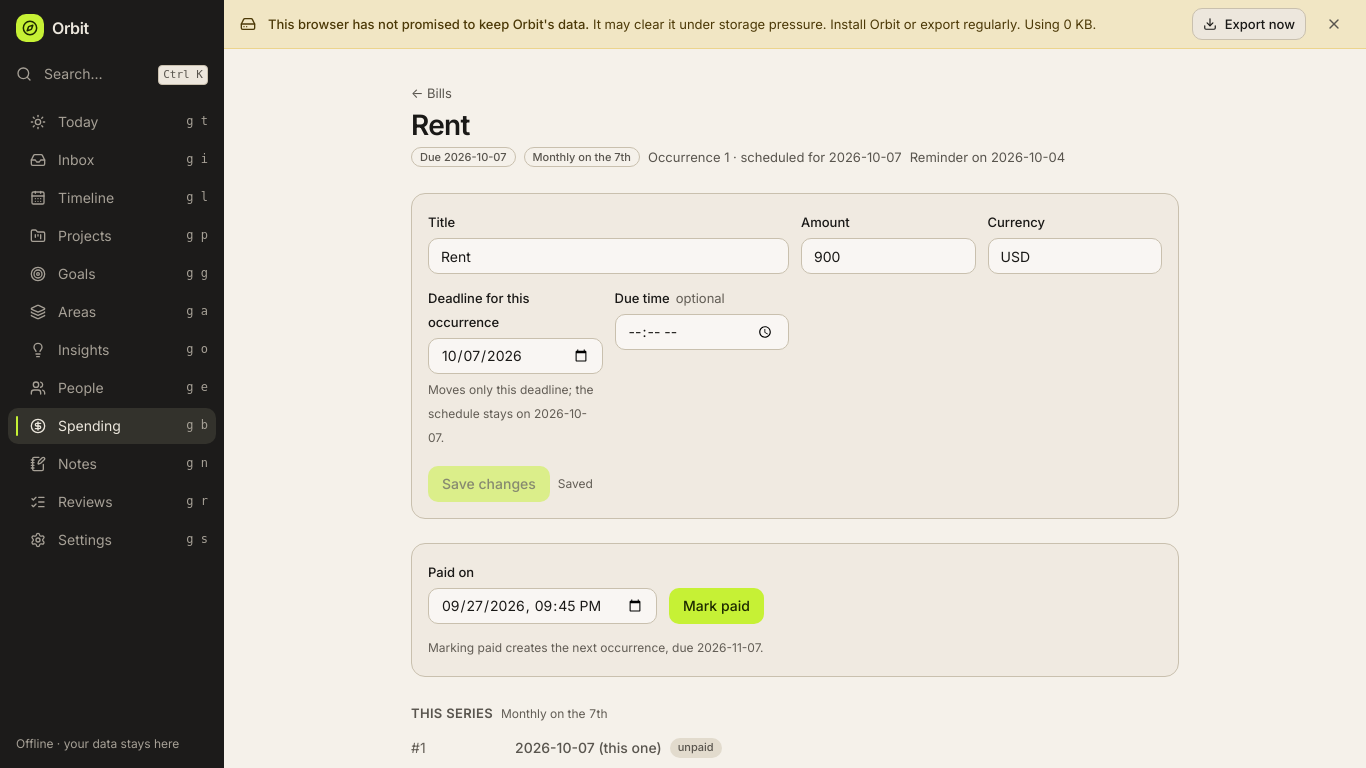
Bills pages › edits only this deadline with a visible save state, and a one-off payment can be corrected
Expected: the text with test id "bill-schedule" is shown, [524,147,640,167]
Step 1. Type "2026-10-09" into the date field labelled "Deadline for this occurrence" → {"x": 515, "y": 356}, box [428,338,602,374]
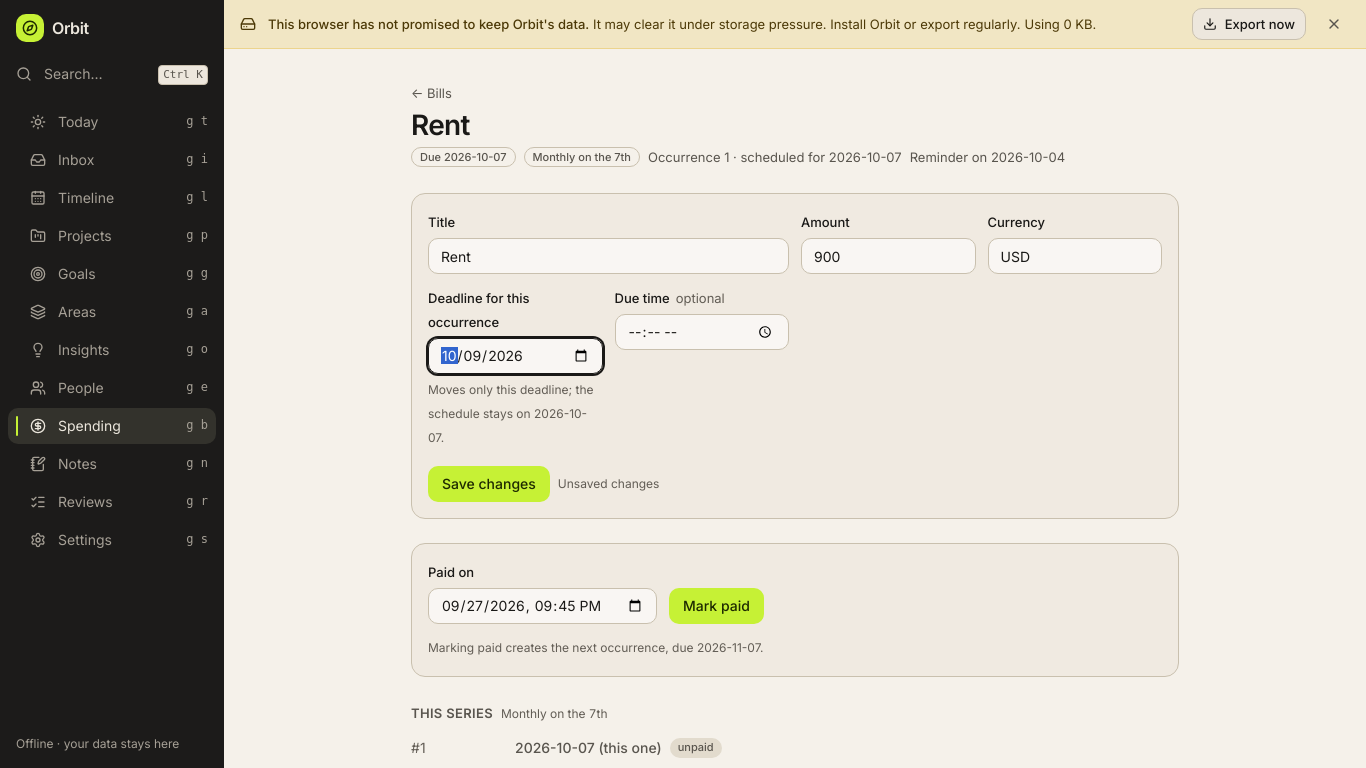
Now the text with test id "bill-save-state" reads "Unsaved changes", box [558,476,659,491]
Step 2. Click the button "Save changes" → {"x": 489, "y": 484}, box [428,466,550,502]
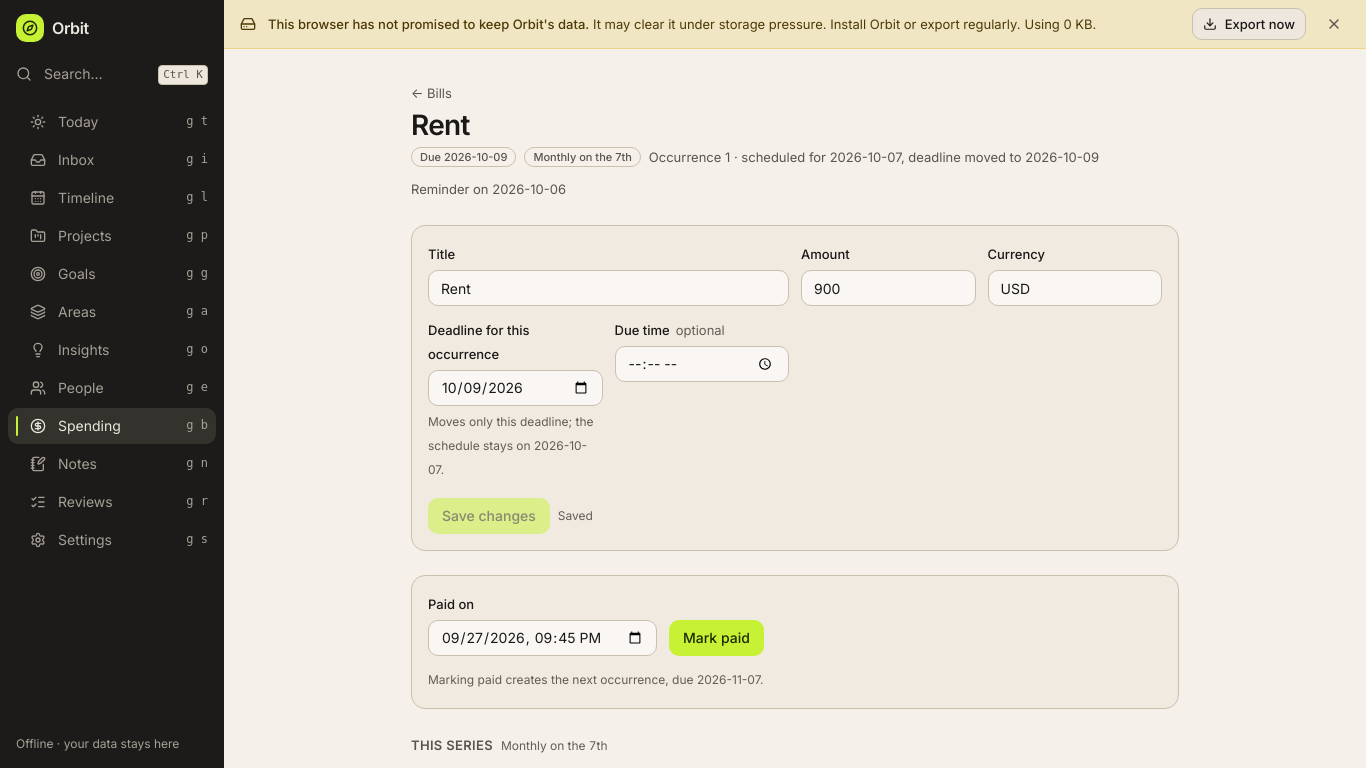
Now the text with test id "bill-save-state" reads "Saved", box [558,508,593,523]
